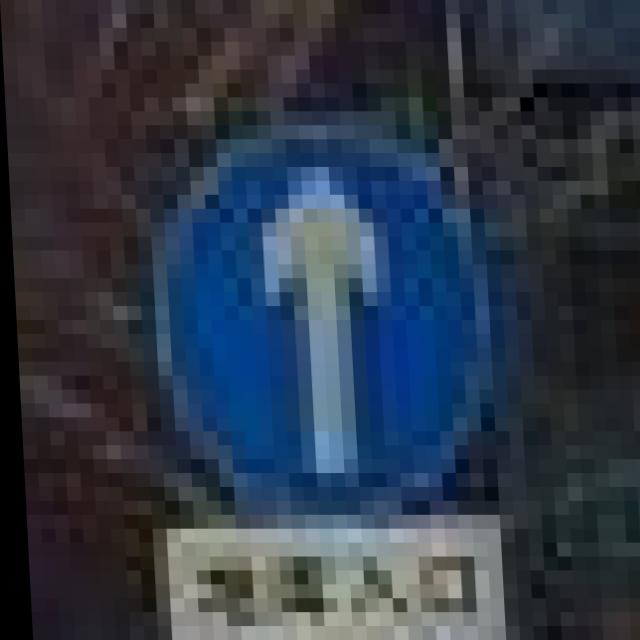COMPULSORY_AHEAD: (134, 141, 505, 508)
